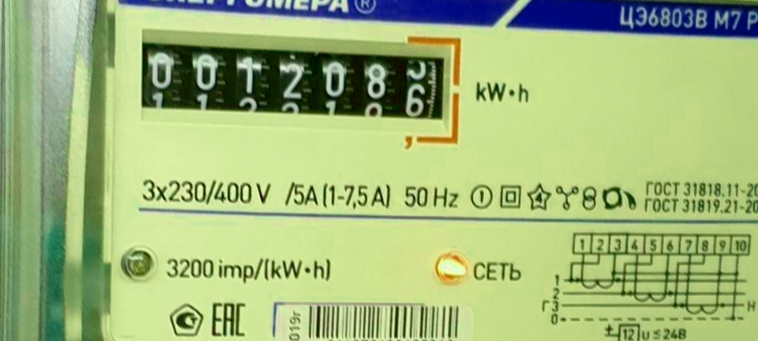0: (192, 50, 220, 92), (149, 48, 173, 90), (323, 59, 346, 98)
1: (237, 53, 259, 94)
2: (280, 60, 305, 100)
6: (401, 81, 426, 117)
8: (365, 60, 387, 100)
screen: (131, 15, 471, 157)
